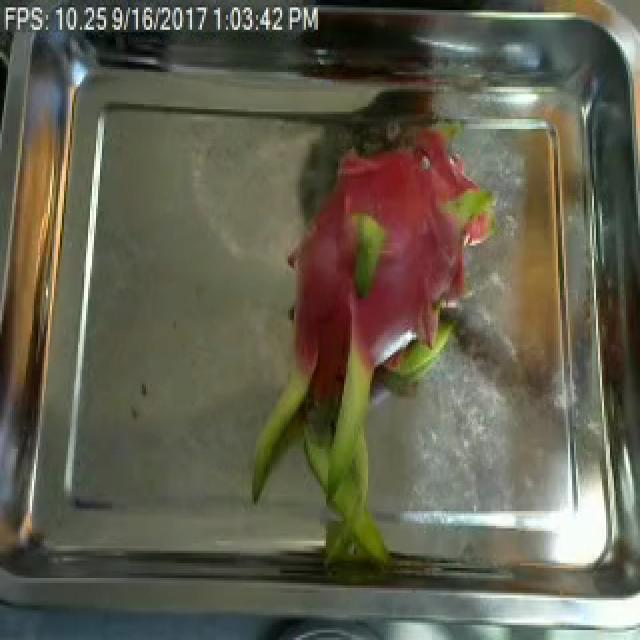fruit: (224, 132, 488, 558)
